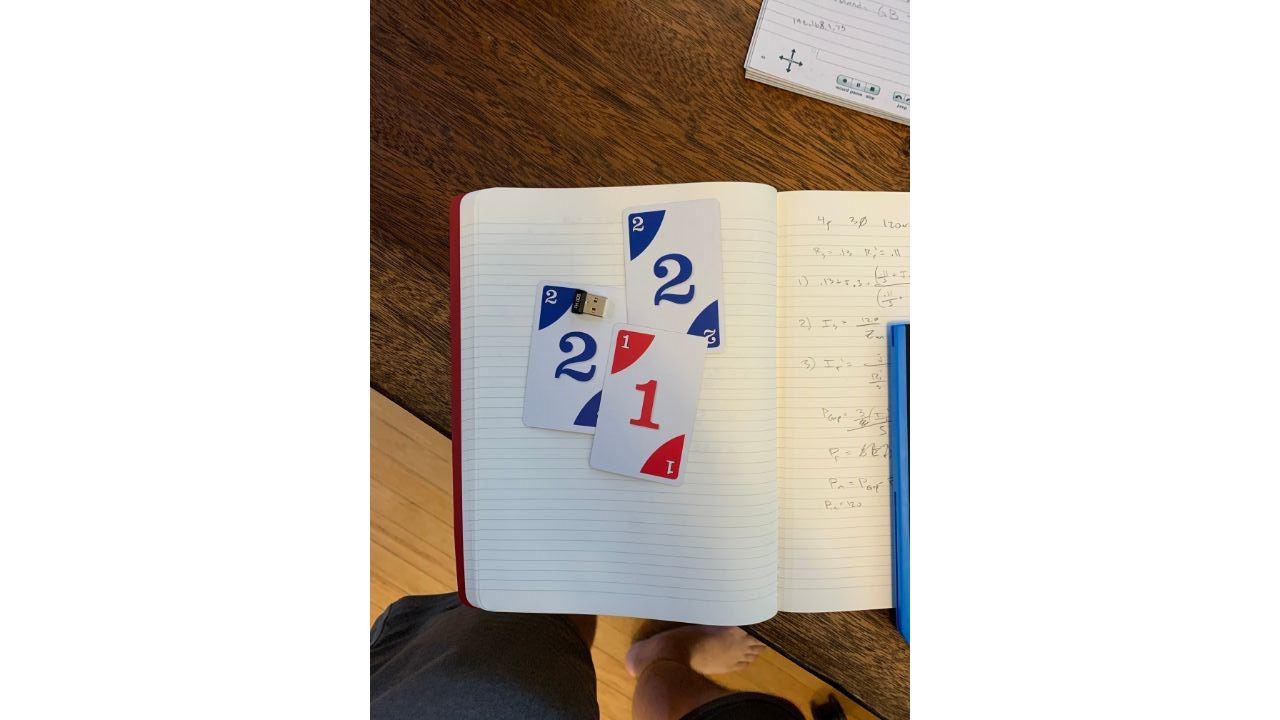one: (582, 321, 713, 488)
two: (515, 280, 641, 439), (620, 197, 733, 362)
